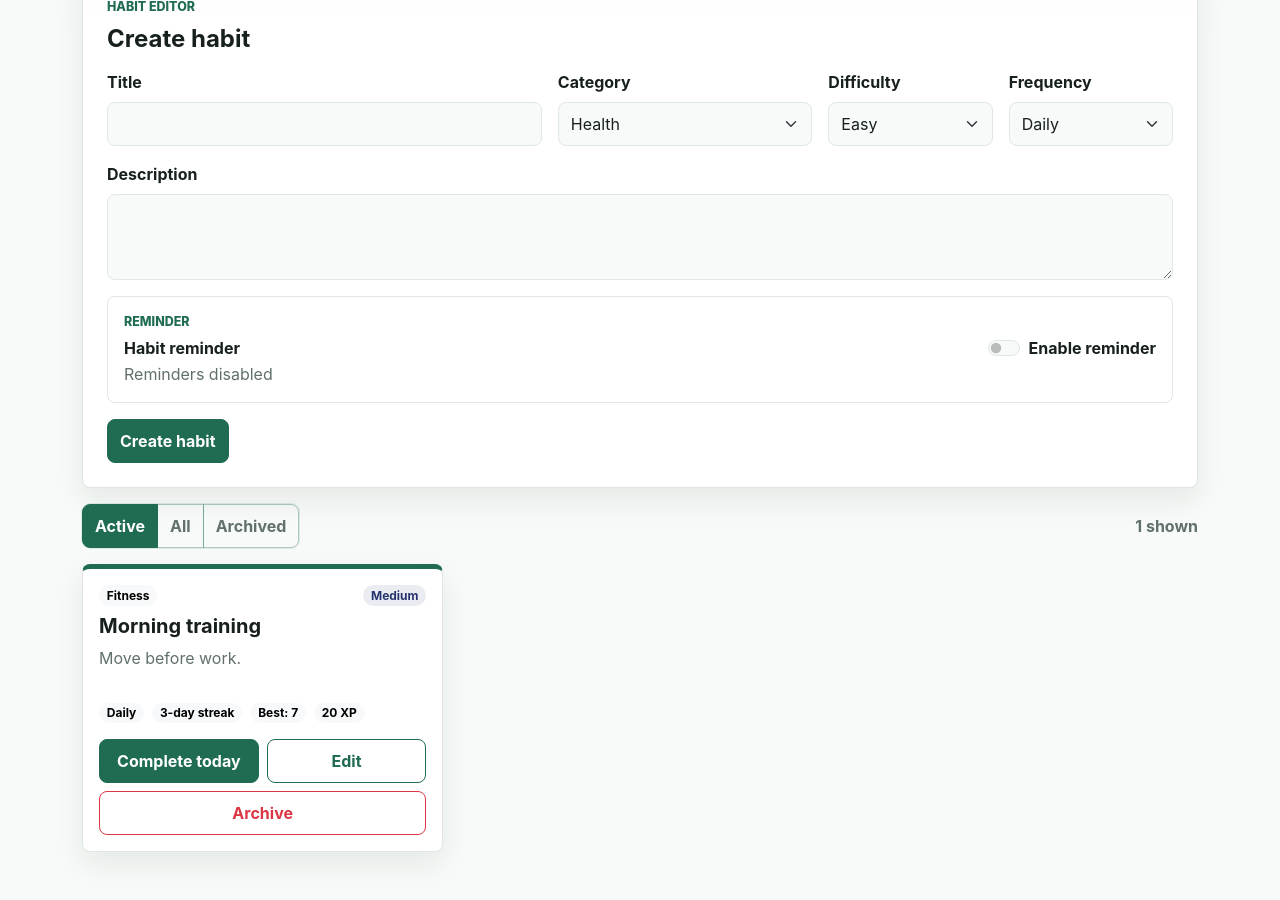
it: Habits API view › shows a friendly error when habit completion fails
(page scrolled)
What coordinates should you click on to do the following:
click the button "Complete today"
I would click on:
 (179, 761)
Its box is top-left (99, 739), bottom-right (259, 783).
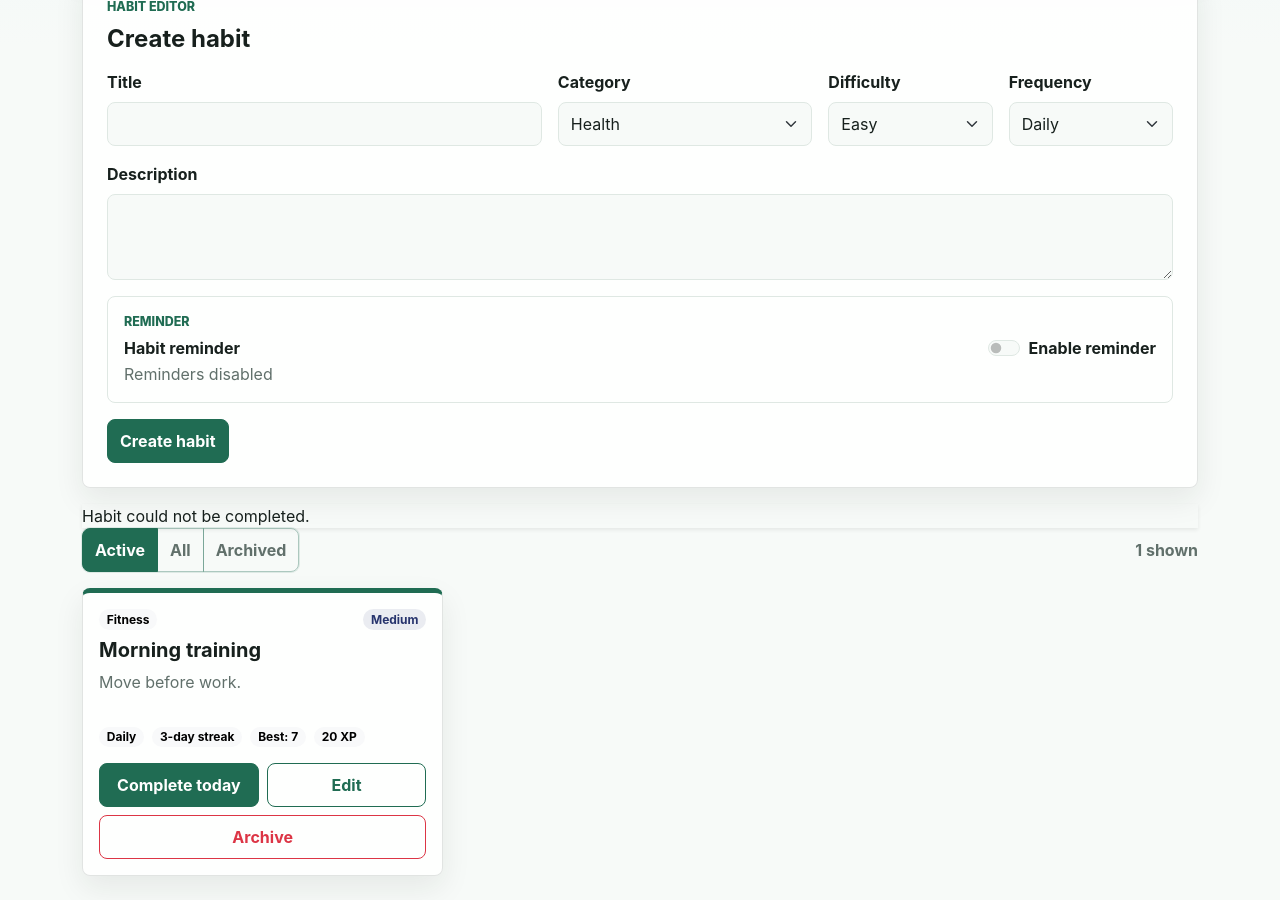
Result: the text "Habit could not be completed." is shown at top-left (82, 504), bottom-right (1198, 528)
